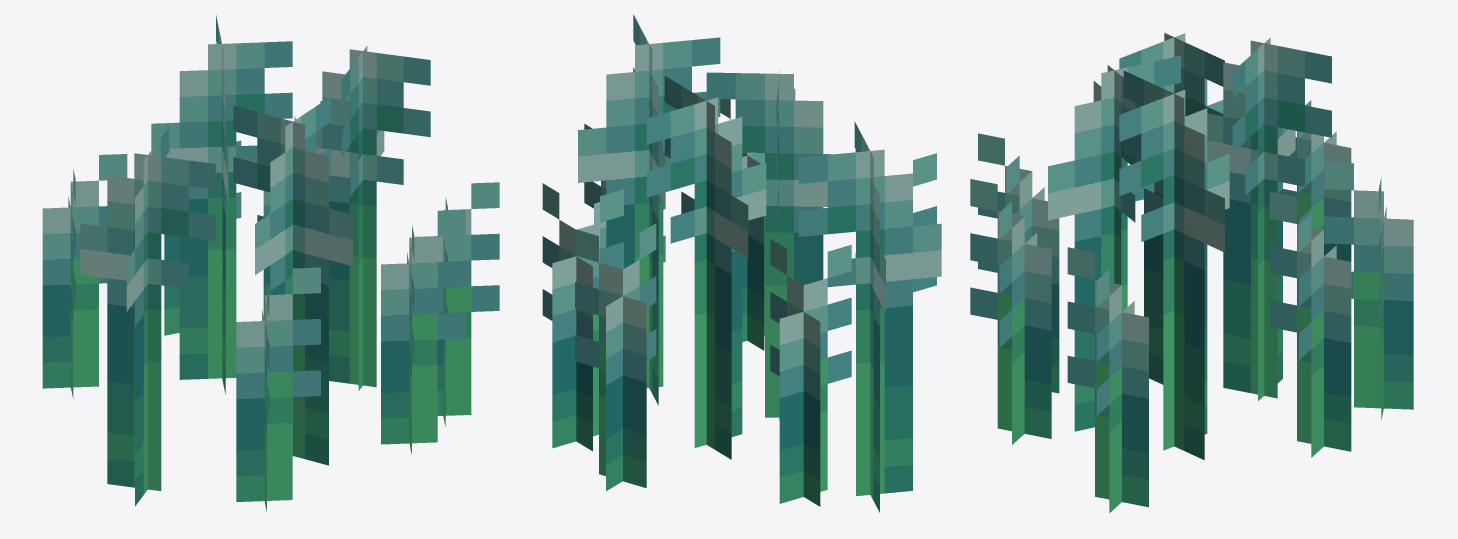
File: crop_sweetcyanreed_stage2.obj
3 renders of one model, left to right at view 1: azimuth 30°, elevation 25°; view 2: azimuth 150°, elevation 25°; view 3: azimuth 270°, elevation 25°, orthographic. The views are drawn at different scales.
Visible parts, largest first — view 1: cube_3, cube_9, cube_5, cube_6, cube_18, cube_21, cube_14, cube_22, cube_7, cube_8, cube_4, cube_2 (+4 smaller); view 2: cube_8, cube_7, cube_4, cube_2, cube_3, cube_15, cube_13, cube_16, cube_14, cube_12, cube_17, cube_9 (+6 smaller); view 3: cube_2, cube_12, cube_4, cube_6, cube_5, cube_19, cube_16, cube_23, cube_3, cube_8, cube_20, cube_22 (+8 smaller).
Boxes of the visible parts, bbox=[...] form: cube_3: bbox=[151, 41, 292, 379]; cube_9: bbox=[80, 153, 215, 490]; cube_5: bbox=[295, 49, 430, 387]; cube_6: bbox=[233, 105, 352, 465]; cube_18: bbox=[381, 210, 465, 444]; cube_21: bbox=[236, 267, 320, 501]; cube_14: bbox=[42, 154, 127, 388]; cube_22: bbox=[415, 182, 499, 415]; cube_7: bbox=[255, 96, 331, 455]; cube_8: bbox=[126, 127, 169, 506]; cube_4: bbox=[341, 46, 384, 390]; cube_2: bbox=[216, 15, 228, 394]; cube_8: bbox=[799, 149, 941, 496]; cube_7: bbox=[706, 72, 832, 417]; cube_4: bbox=[578, 37, 720, 388]; cube_2: bbox=[646, 97, 766, 447]; cube_3: bbox=[664, 76, 748, 459]; cube_15: bbox=[779, 244, 851, 503]; cube_13: bbox=[575, 229, 646, 488]; cube_16: bbox=[552, 189, 623, 448]; cube_14: bbox=[770, 239, 820, 506]; cube_12: bbox=[606, 223, 656, 491]; cube_17: bbox=[542, 183, 592, 451]; cube_9: bbox=[854, 121, 885, 512]; cube_2: bbox=[1196, 40, 1331, 398]; cube_12: bbox=[1324, 162, 1413, 409]; cube_4: bbox=[1123, 70, 1224, 460]; cube_6: bbox=[1048, 55, 1180, 431]; cube_5: bbox=[1119, 90, 1229, 450]; cube_19: bbox=[970, 179, 1051, 438]; cube_16: bbox=[1269, 191, 1351, 451]; cube_23: bbox=[1067, 247, 1148, 507]; cube_3: bbox=[1232, 37, 1295, 400]; cube_8: bbox=[1144, 33, 1224, 384]; cube_20: bbox=[978, 133, 1059, 393]; cube_22: bbox=[1096, 269, 1134, 512].
Bounding box in the file's own units: 0.9297 × 0.9375 × 0.9878.
